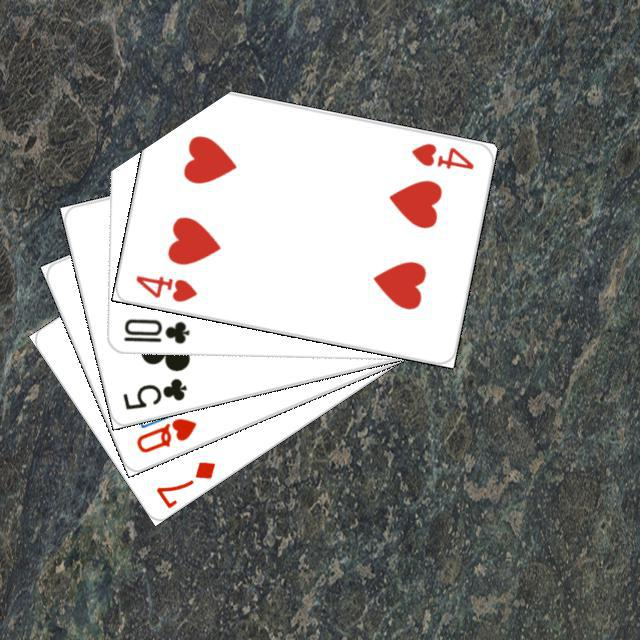10c: (119, 313, 191, 346)
4h: (130, 270, 199, 304), (406, 138, 476, 171)
5c: (117, 373, 189, 411)
7d: (151, 456, 218, 509)
Qh: (131, 413, 199, 455)
